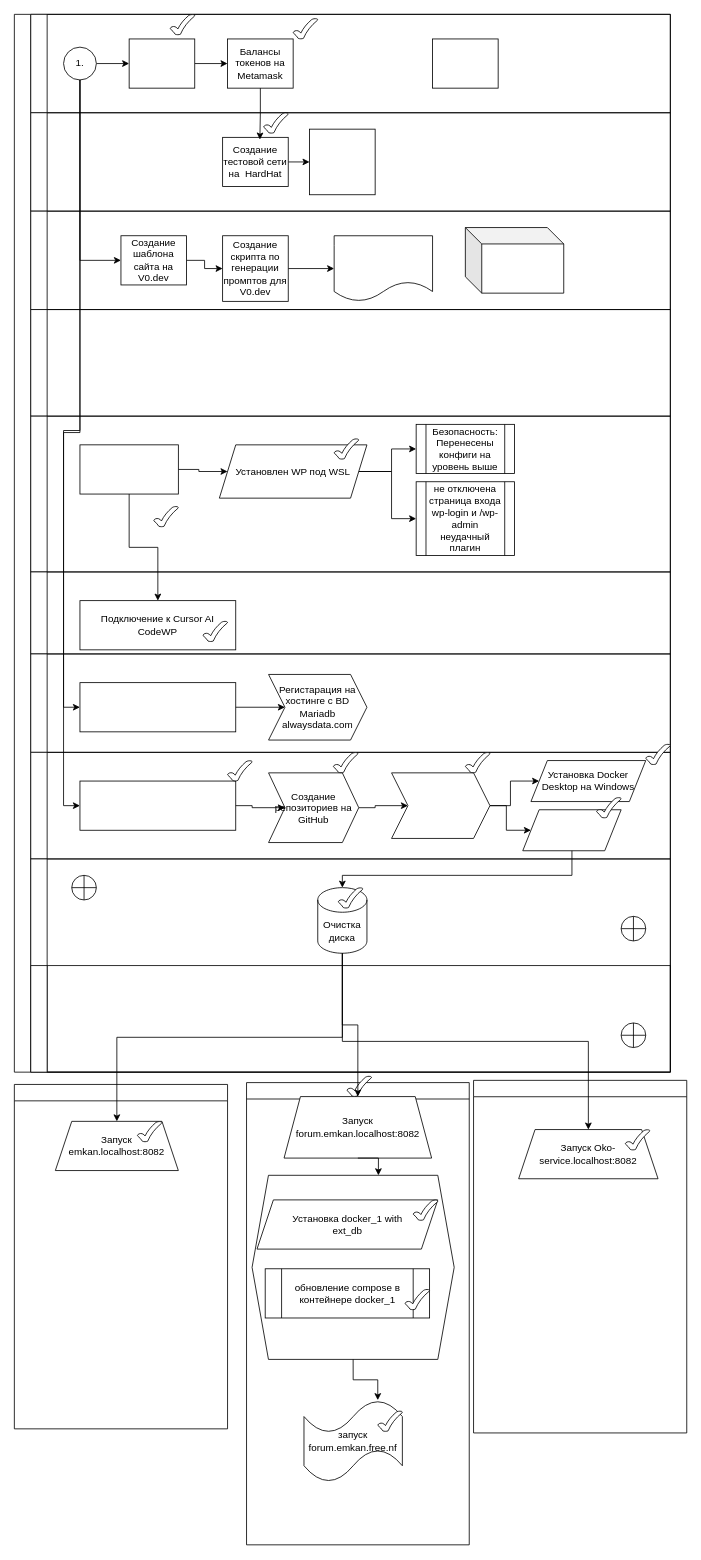
The diagram is 701 pixels wide and 1560 high, and some of its shapes have lost their labels. Each missing label, with the centre of its shape:
запуск ./Repo/1_Docs_/Celi.html: pixel 383 268
Кнопка подключения Metamask: pixel 161 63
Перенос на локальлный сервер под WSL: для emkan.free.nf и forum.emkan.free.nf: pixel 157 805
Проверка и настройка среды для серверов удаленных и локальных: pixel 440 805
Пулы ликвидности: pixel 465 63
Создание интернет-магазина под WP "Око техники": pixel 128 469
Создание регистрации на сайте через Mysql: pixel 157 707
Создание собственного тестового токена на localhost: pixel 342 161
Страница с меню всех .md проекта: pixel 514 260
Установка Docker под WSL: pixel 571 830
